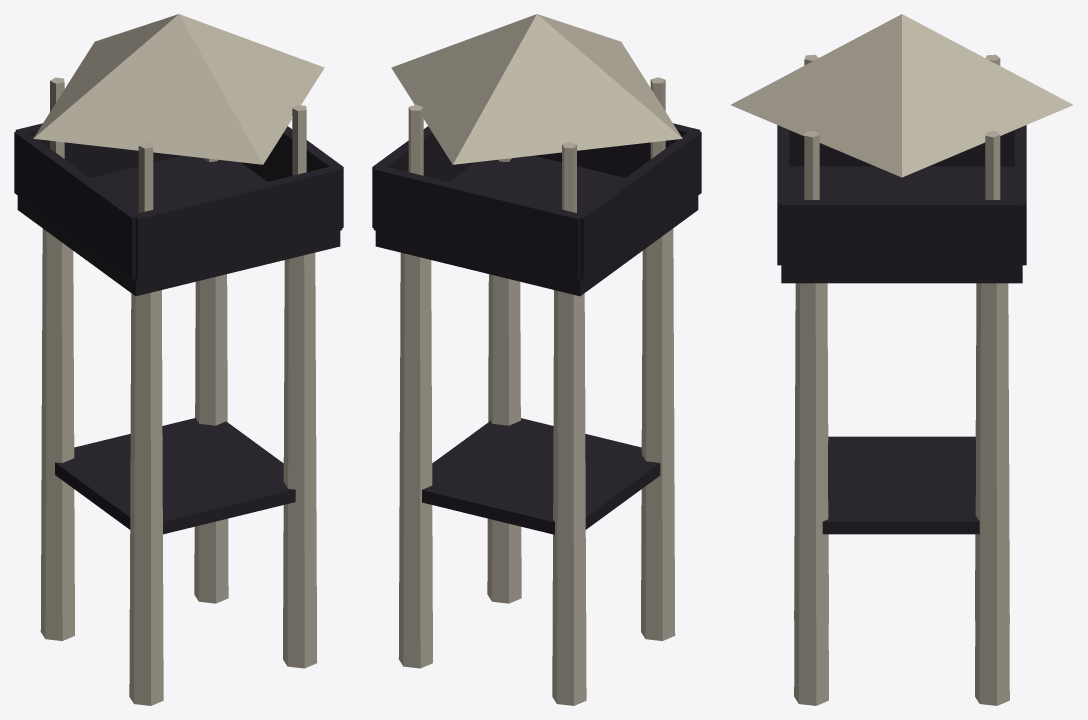
The model's file is horde_tower.glb.
3 renders of one model, left to right at view 1: azimuth 30°, elevation 25°; view 2: azimuth 150°, elevation 25°; view 3: azimuth 270°, elevation 25°, orthographic. The views are drawn at different scales.
Parts seen in each view (by area): view 1: horde_tower; view 2: horde_tower; view 3: horde_tower.
Boxes of the visible parts, box(x1,y1,x2,y2) form: horde_tower: box(14, 14, 343, 705); horde_tower: box(372, 14, 701, 705); horde_tower: box(731, 14, 1072, 705).
Size of the model in its own units: 1.71 by 3.55 by 1.71.
